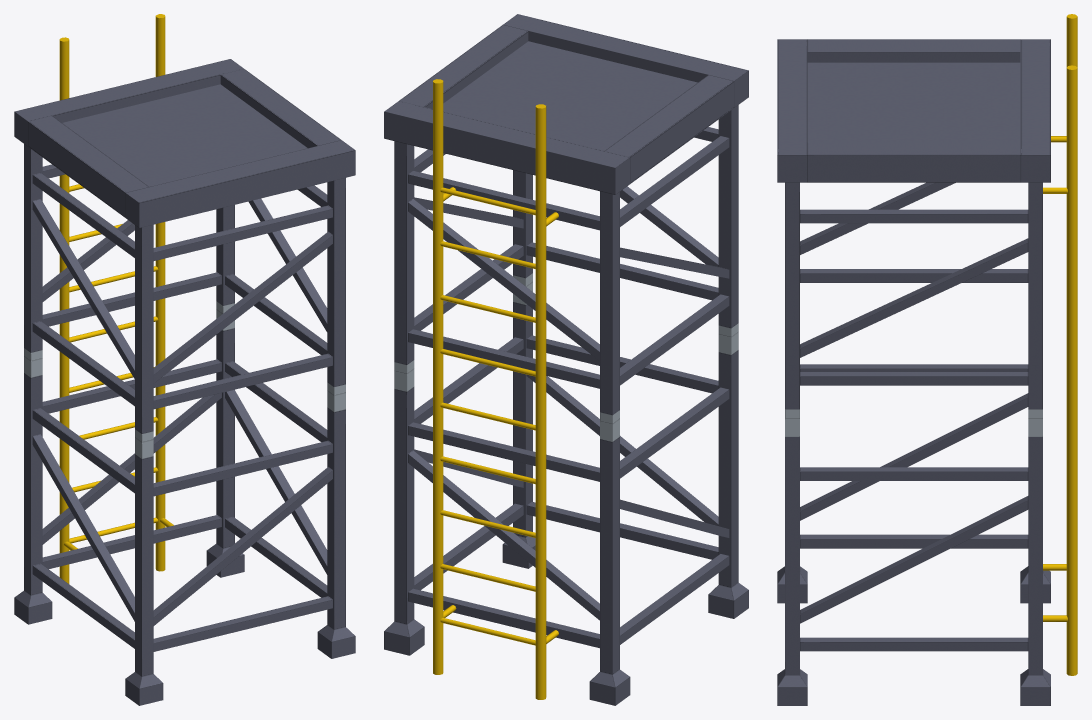
File: Platerform_Metal_01.FBX
The picture shows the model from 3 angles, left to right: view 1: azimuth 30°, elevation 25°; view 2: azimuth 150°, elevation 25°; view 3: azimuth 270°, elevation 25°; orthographic projection. The views are drawn at different scales.
Parts seen in each view (by area): view 1: Platerform_Metal_01; view 2: Platerform_Metal_01; view 3: Platerform_Metal_01.
Boxes of the visible parts, x1,y1,x2,y2 form: Platerform_Metal_01: [14, 14, 355, 705]; Platerform_Metal_01: [384, 14, 748, 705]; Platerform_Metal_01: [777, 14, 1077, 705].
Bounding box in the file's own units: 2.25 × 5.5 × 2.47.
